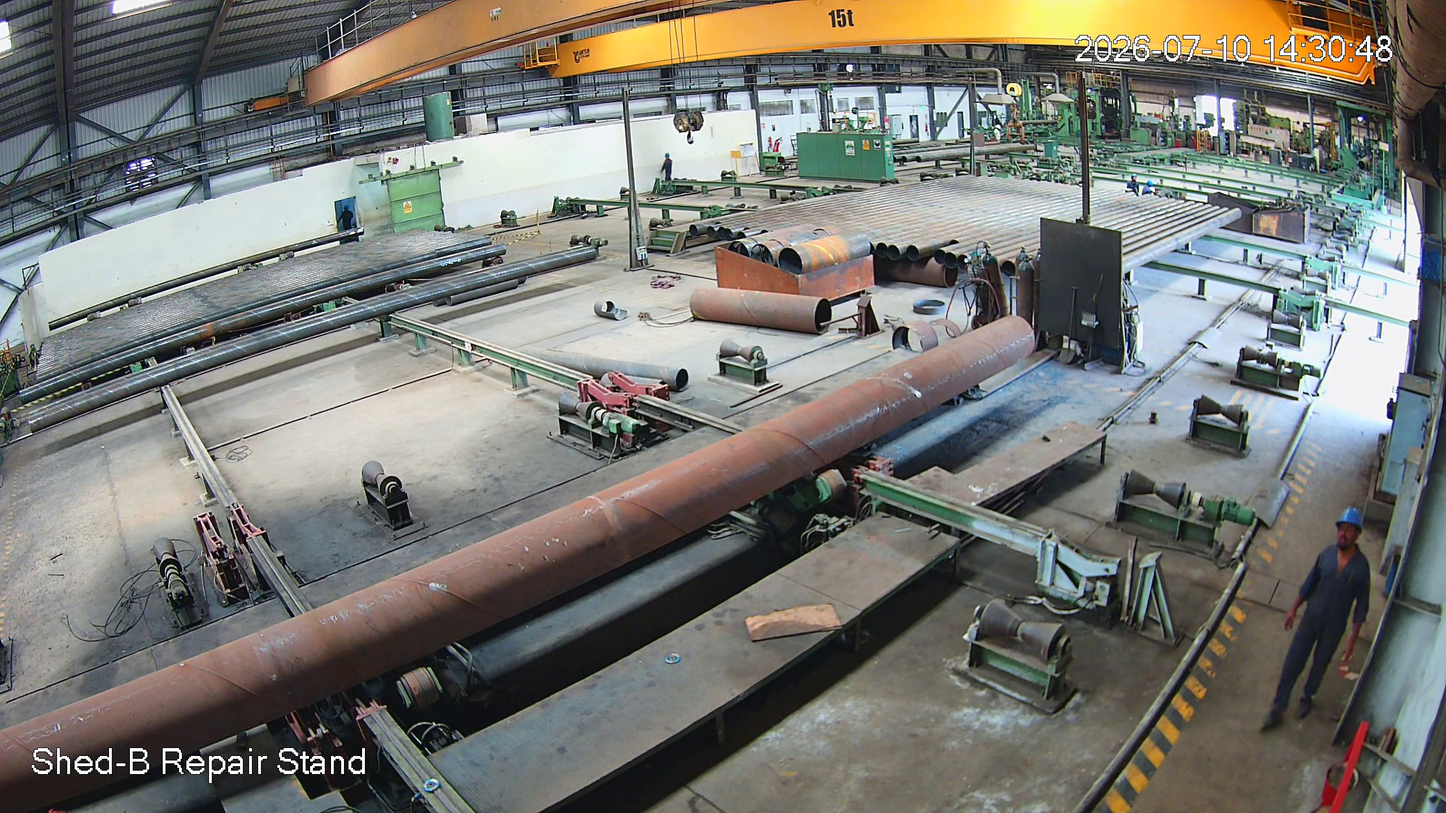Helmet: (1325, 499, 1376, 563)
Person: (1263, 505, 1386, 745)
